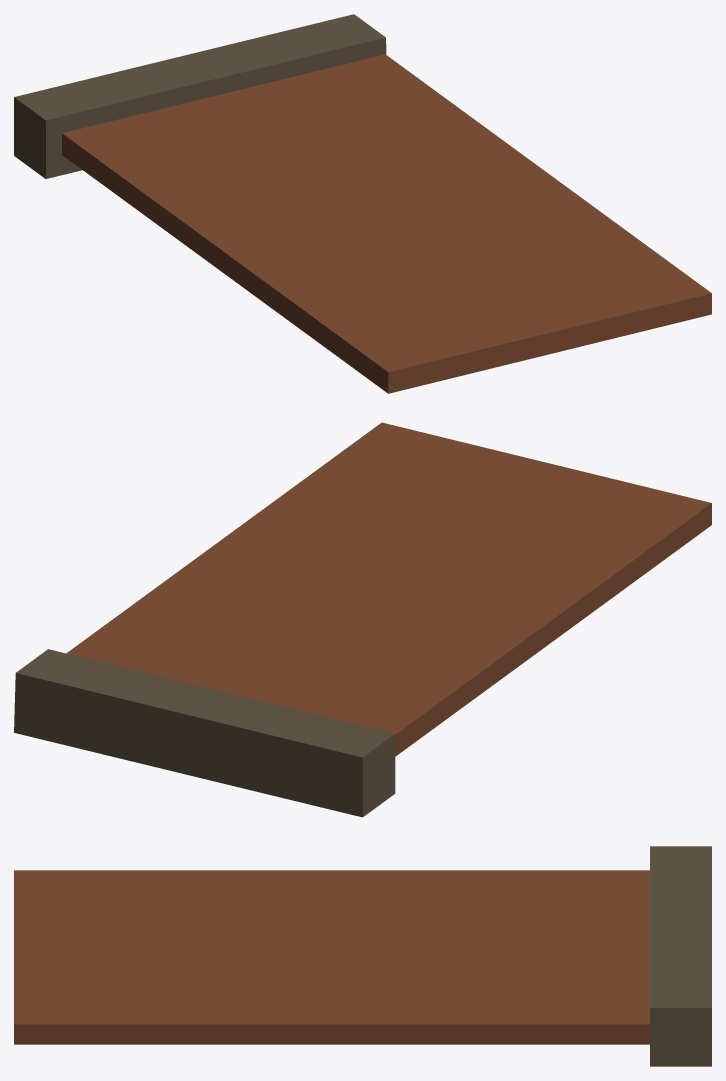
Rendered from SM_toit_simplepolySurface5.fbx.
The picture shows the model from 3 angles, top to bottom: view 1: azimuth 30°, elevation 25°; view 2: azimuth 150°, elevation 25°; view 3: azimuth 270°, elevation 25°; orthographic projection. The views are drawn at different scales.
Parts seen in each view (by area): view 1: polySurface5; view 2: polySurface5; view 3: polySurface5.
Part boxes in pixels (bbox=[...]): polySurface5: bbox=[14, 14, 711, 393]; polySurface5: bbox=[14, 422, 711, 817]; polySurface5: bbox=[14, 846, 711, 1066].
Bounding box in the file's own units: 173 × 28.51 × 313.
